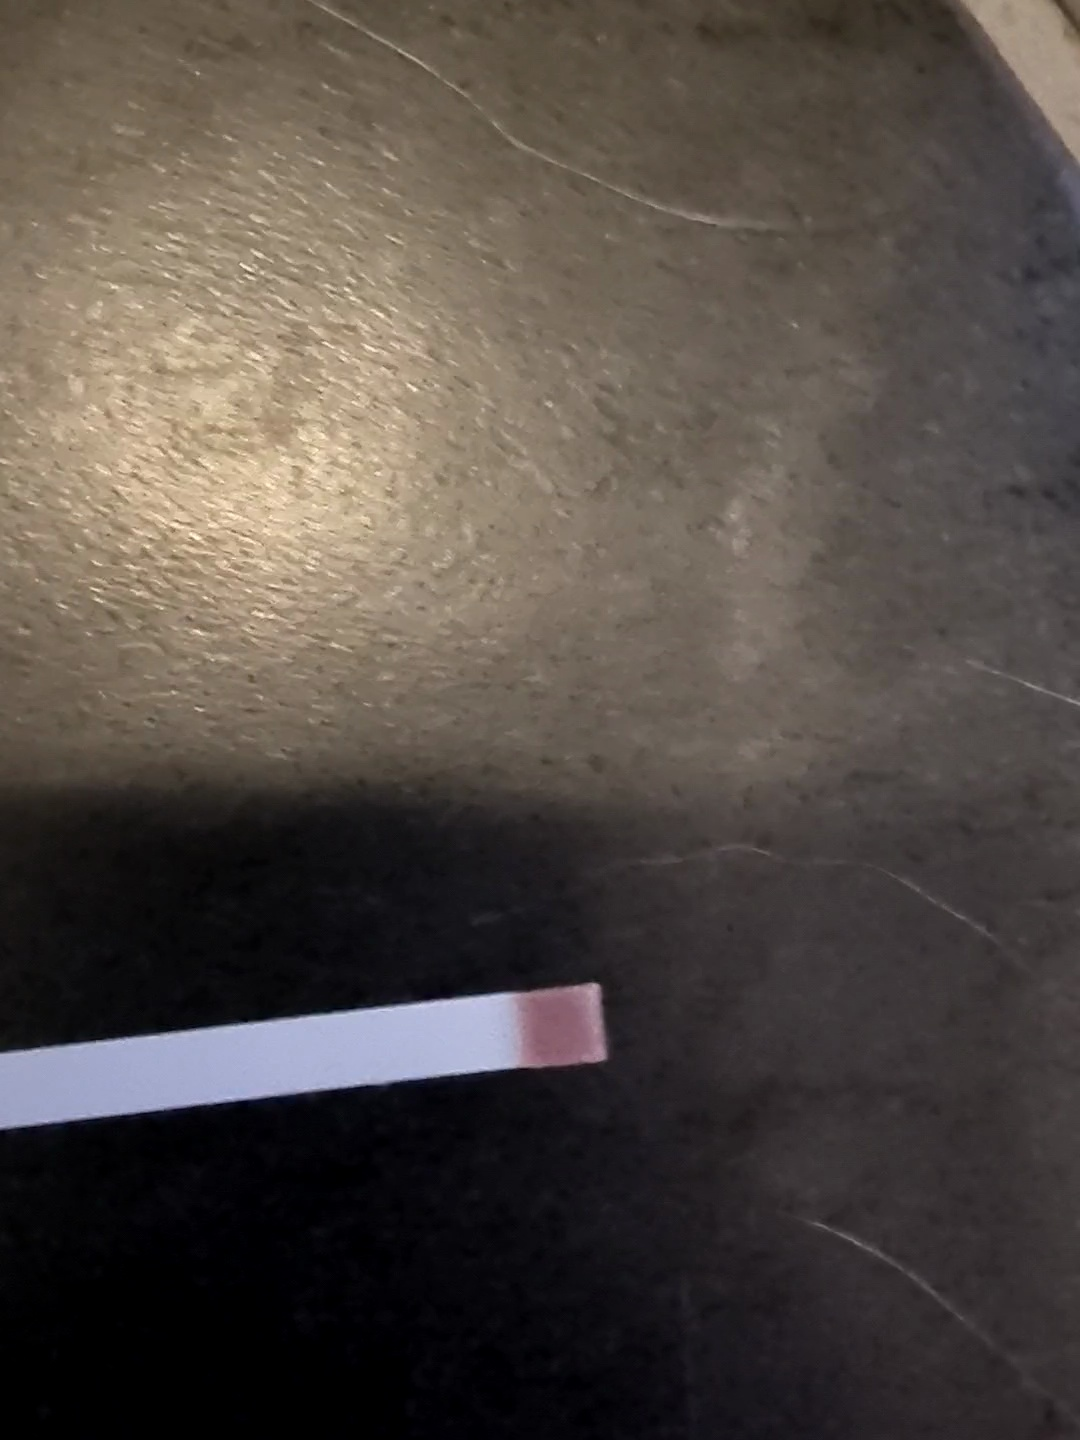keto-tip: (508, 980, 616, 1070)
